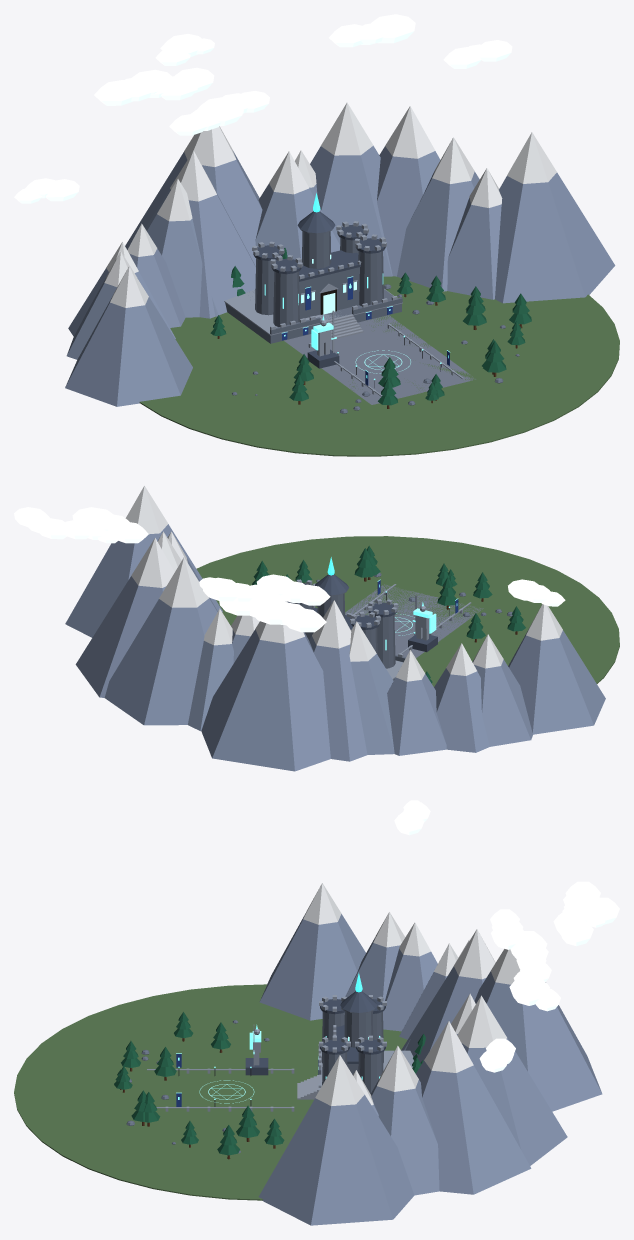
The model's file is fortaleza-runas.glb.
3 renders of one model, top to bottom at view 1: azimuth 30°, elevation 25°; view 2: azimuth 150°, elevation 25°; view 3: azimuth 270°, elevation 25°, orthographic. The views are drawn at different scales.
Parts seen in each view (by area): view 1: Montanhas, Chao, Nuvens, Torres, Arvores, Fortaleza, Terraco, Centro, Estatua, Parapeito; view 2: Montanhas, Chao, Nuvens, Arvores, Torres, Estatua, Centro; view 3: Montanhas, Chao, Nuvens, Arvores, Torres, Centro, Estatua, Balaustre.
Part boxes in pixels (box(x1,y1,x2,y2)): Montanhas: box(65, 102, 615, 406); Chao: box(139, 276, 619, 456); Nuvens: box(14, 14, 512, 203); Torres: box(252, 221, 386, 326); Arvores: box(210, 248, 531, 408); Fortaleza: box(299, 250, 361, 318); Terraco: box(224, 288, 402, 343); Centro: box(297, 193, 335, 268); Estatua: box(307, 310, 339, 368); Parapeito: box(270, 296, 402, 334); Montanhas: box(65, 485, 605, 771); Chao: box(196, 536, 619, 686); Nuvens: box(14, 507, 565, 632); Arvores: box(252, 545, 525, 683); Torres: box(287, 579, 398, 668); Estatua: box(408, 595, 437, 652); Centro: box(314, 557, 348, 618); Montanhas: box(258, 883, 602, 1225); Chao: box(14, 984, 407, 1200); Nuvens: box(394, 800, 619, 1072); Arvores: box(114, 1012, 425, 1159); Torres: box(319, 995, 386, 1093); Centro: box(340, 973, 377, 1047); Estatua: box(245, 1024, 268, 1075); Balaustre: box(147, 1068, 294, 1111).
Bounding box in the file's own units: 104 × 35.53 × 101.
